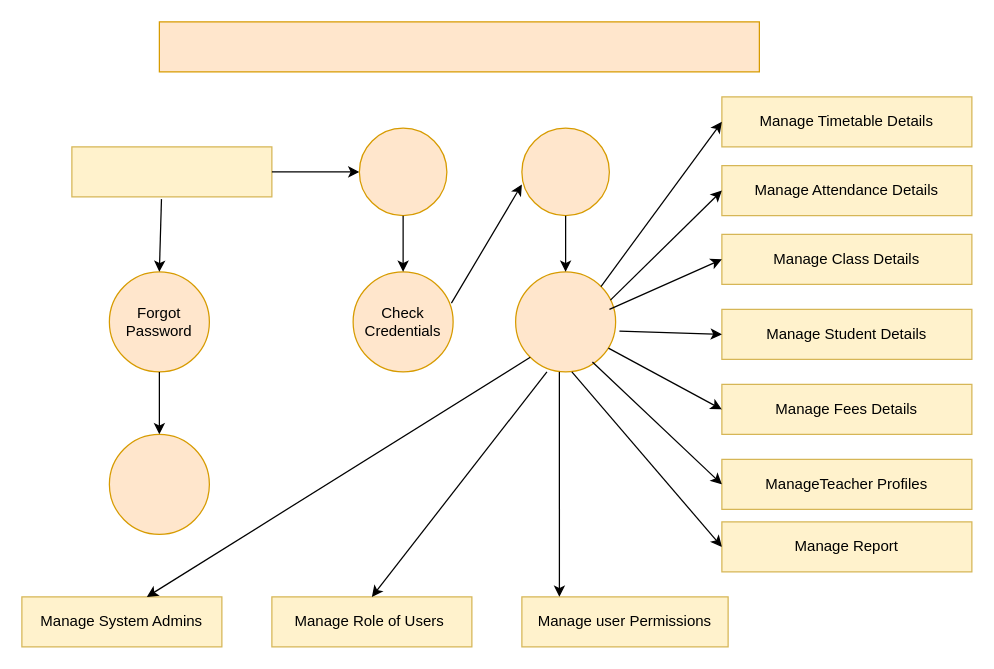
This 994x669 diagram has some shape labels left out. The box of each missing label's shape, as (x1, y1, x2, y2) in pixels:
Admin: (71, 146, 272, 197)
Check Role of Axix: (521, 127, 609, 216)
Login to System: (358, 127, 447, 216)
Merge Modules: (514, 271, 616, 372)
Send Email: (108, 433, 209, 534)
Student Information System: (158, 21, 759, 72)
